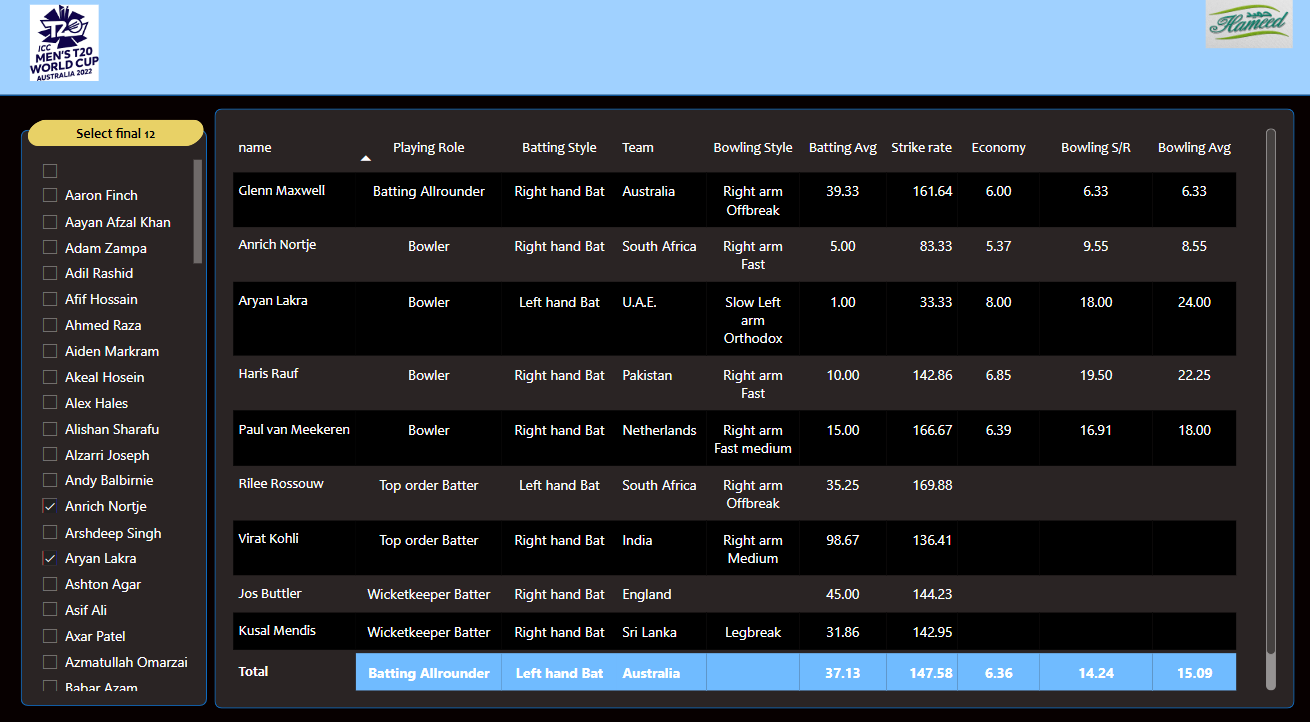

Layout of this report page (visuals, bound fields, positions):
{"tool":"powerbi","page":{"name":"new final 12","canvas":[1280,720],"ordinal":7},"visuals":[{"type":"shape","box":[0,100.1,1280,620.1],"z":0},{"type":"shape","box":[27.7,133.9,179.8,556.2],"z":1000},{"type":"shape","box":[31.4,124.3,176.1,25.3],"z":2000},{"type":"image","box":[1159.4,0,107.4,60.3],"z":3000},{"type":"image","box":[27.7,8.4,83.2,83.2],"z":4000},{"type":"shape","box":[214.7,113.4,1042.4,579.1],"z":5000},{"type":"slicer","fields":{"Values":["dim_player.name"]},"box":[36.2,158,171.3,522.4],"z":6000},{"type":"pivotTable","fields":{"Rows":["dim_players.name"],"Values":["dim_players.playingRole","dim_players.battingStyle","dim_players.team","dim_players.bowlingStyle","Key_Measures.Batting Avg","Key_Measures.Strike rate","Key_Measures.Economy","Key_Measures.Bowling Strike Rate","Key_Measures.Bowling Average"]},"box":[228,127.9,1015.8,552.5],"z":7000}]}

Visuals, with their boxes in screenshot pixels (x1, y1, x2, y2), scaled from the page's 1280x720 canvas onto the 1310x722 screenshot:
shape: [0, 100, 1309, 721]
shape: [28, 134, 212, 692]
shape: [32, 125, 212, 150]
image: [1187, 0, 1296, 60]
image: [28, 8, 113, 92]
shape: [220, 114, 1287, 694]
slicer - dim_player.name: [37, 158, 212, 682]
pivotTable - dim_players.name x dim_players.playingRole: [233, 128, 1273, 682]
